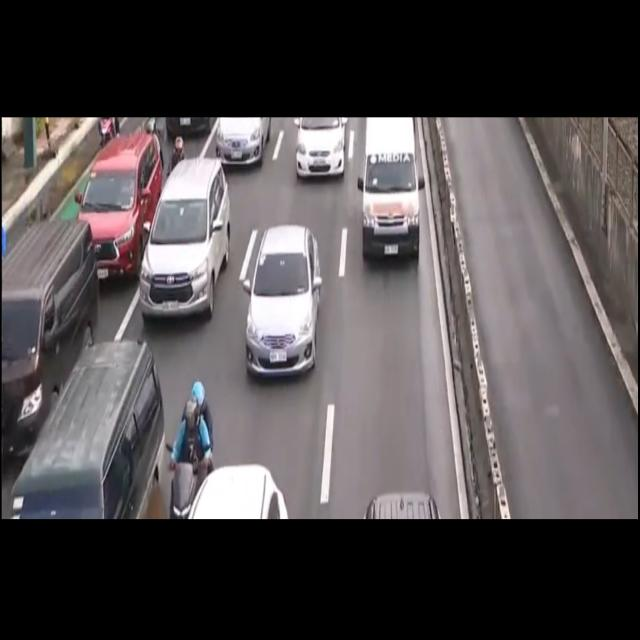Motorcycle: (163, 381, 211, 518)
SUV: (140, 160, 230, 313), (75, 135, 158, 278)
Sedan: (238, 222, 328, 381), (295, 116, 344, 188)
Van: (14, 345, 162, 520), (2, 217, 93, 450), (361, 114, 422, 270)
